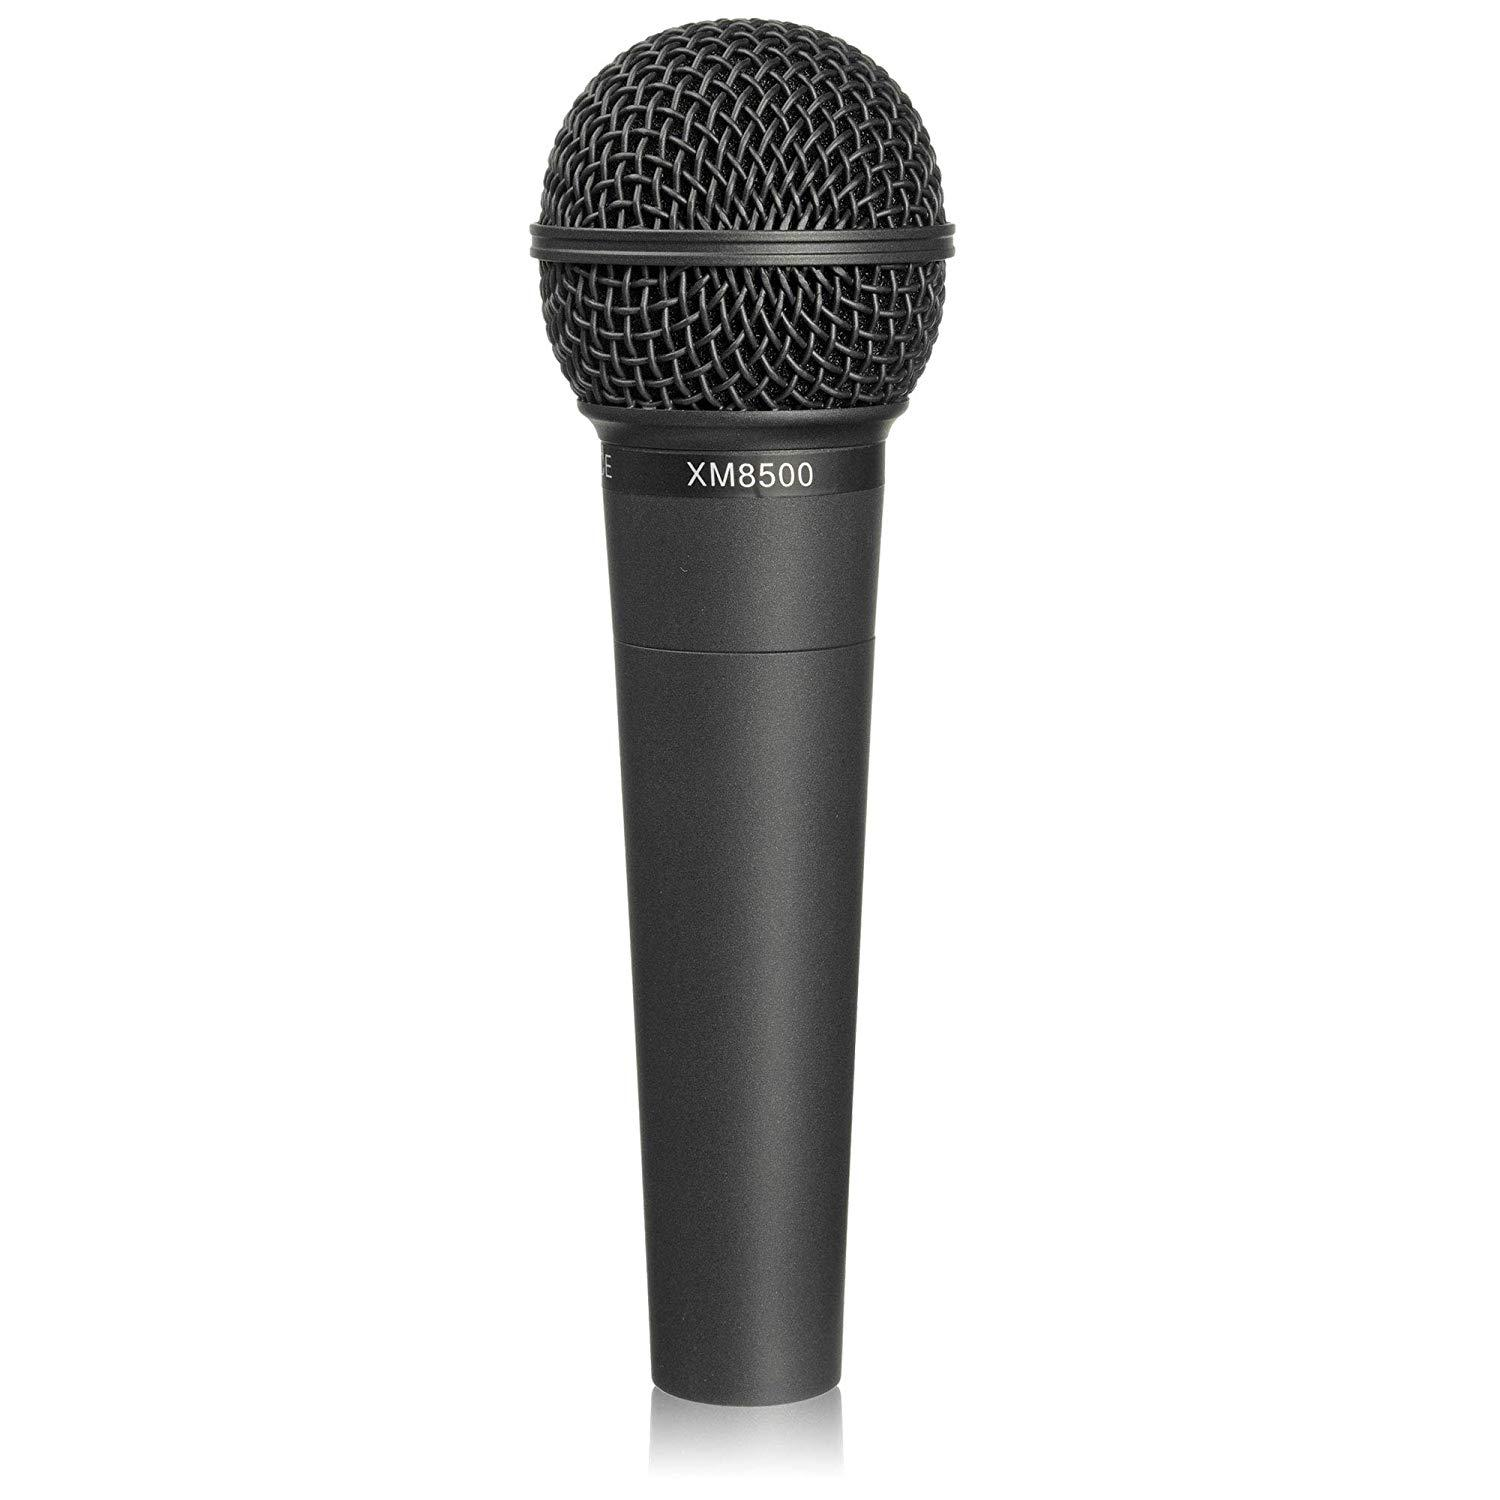Microphone: (460, 0, 1023, 1435)
